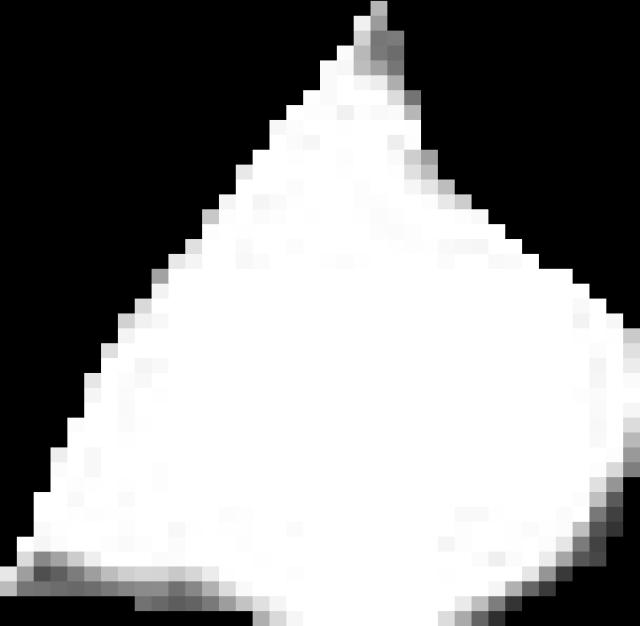tumor_good_chance: (0, 1, 640, 626)
